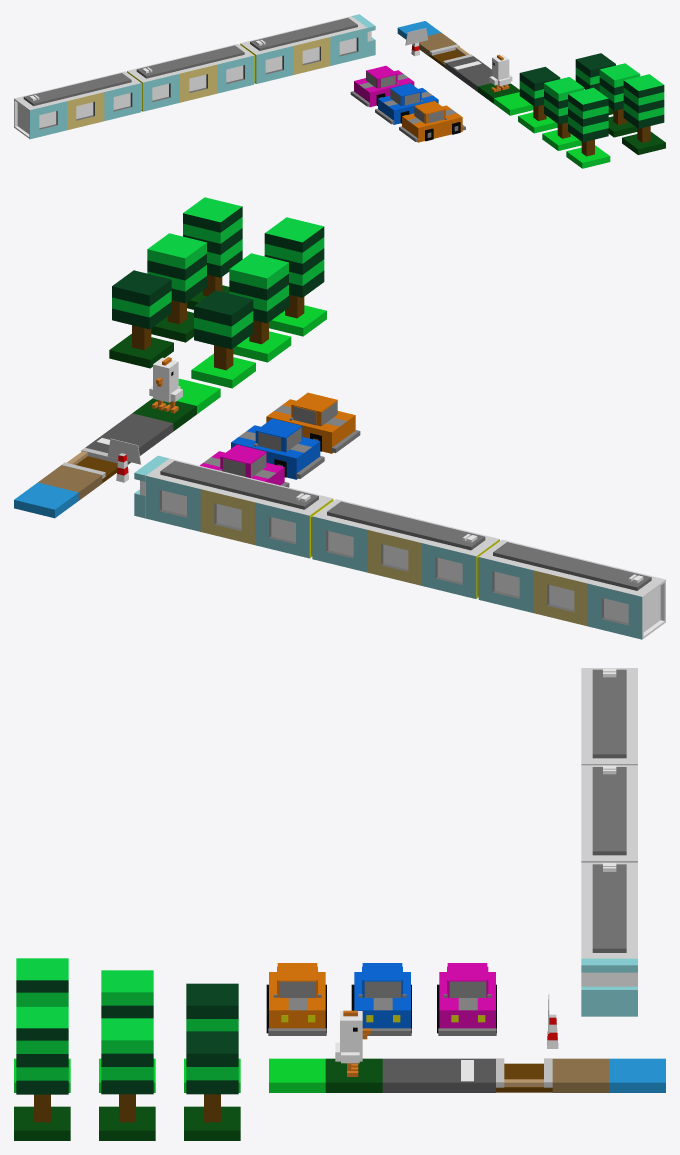
The model's file is funnyroad_project.dae.
3 renders of one model, top to bottom at view 1: azimuth 30°, elevation 25°; view 2: azimuth 150°, elevation 25°; view 3: azimuth 270°, elevation 25°, orthographic. The views are drawn at different scales.
Parts seen in each view (by area): view 1: Vagao, ÁrvoreGGramaEscura, ÁrvoreGGramaClara, Carro 1, ÁrvoreMGramaClara, ÁrvoreMGramaEscura, ÁrvorePGramaClara, Carro 3, Carro 2, ÁrvorePGramaEscura, Pintainho, Grama (+7 smaller); view 2: Vagao, ÁrvoreGGramaClara, ÁrvorePGramaClara, ÁrvorePGramaEscura, ÁrvoreMGramaClara, ÁrvoreMGramaEscura, ÁrvoreGGramaEscura, Carro 2, Carro 1, Carro 3, Agua, Pintainho (+7 smaller); view 3: Vagao, ÁrvoreGGramaEscura, ÁrvoreMGramaEscura, ÁrvorePGramaEscura, Carro 1, Carro 3, Carro 2, ÁrvorePGramaClara, ÁrvoreMGramaClara, ÁrvoreGGramaClara, Asfalto 1, Terra (+6 smaller).
Boxes of the visible parts, x1,y1,x2,y2 form: Vagao: (14,14,375,139); ÁrvoreGGramaEscura: (622,74,665,154); ÁrvoreGGramaClara: (566,87,610,168); Carro 1: (399,101,465,142); ÁrvoreMGramaClara: (542,77,584,150); ÁrvoreMGramaEscura: (599,63,640,137); ÁrvorePGramaClara: (518,66,560,133); Carro 3: (350,65,414,107); Carro 2: (375,83,438,124); ÁrvorePGramaEscura: (575,53,615,114); Pintainho: (489,54,512,92); Grama: (494,92,533,115); Vagao: (134,455,665,639); ÁrvoreGGramaClara: (264,217,326,336); ÁrvorePGramaClara: (191,290,255,388); ÁrvorePGramaEscura: (109,270,173,368); ÁrvoreMGramaClara: (229,253,291,362); ÁrvoreMGramaEscura: (147,233,206,342); ÁrvoreGGramaEscura: (183,197,242,309); Carro 2: (231,418,324,479); Carro 1: (266,392,360,453); Carro 3: (200,444,289,487); Agua: (14,482,78,518); Pintainho: (149,357,182,413); Vagao: (581,668,637,1016); ÁrvoreGGramaEscura: (14,1006,70,1140); ÁrvoreMGramaEscura: (99,1018,155,1140); ÁrvorePGramaEscura: (184,1031,240,1140); Carro 1: (266,963,326,1035); Carro 3: (437,963,496,1035); Carro 2: (351,963,411,1035); ÁrvorePGramaClara: (184,983,240,1092); ÁrvoreMGramaClara: (99,970,155,1092); ÁrvoreGGramaClara: (14,958,70,1092); Asfalto 1: (382,1058,439,1092); Terra: (552,1058,609,1092).
Bounding box in the file's own units: 34.11 × 23 × 4.64.
